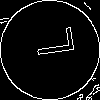L: (25, 25, 75, 60)
